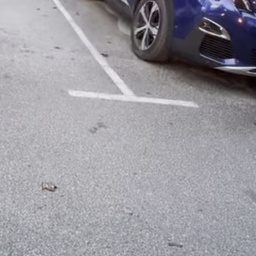White line: (27, 4, 132, 94), (49, 81, 207, 117)
